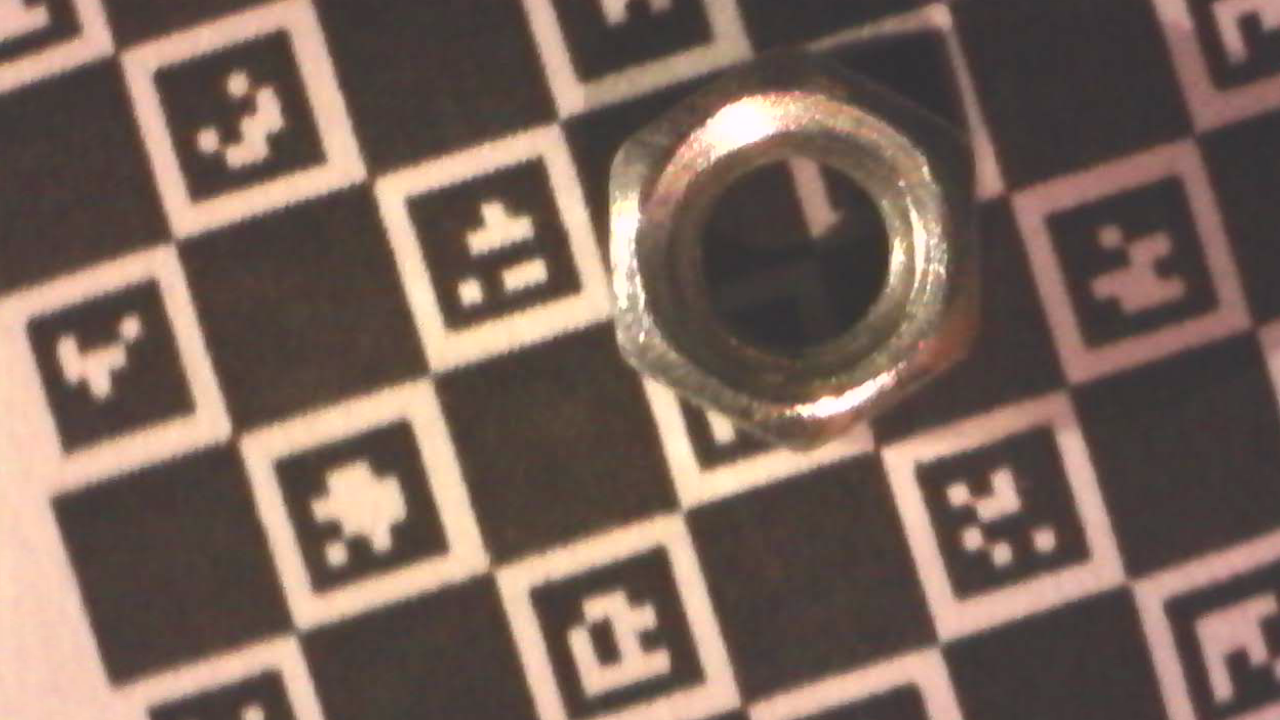Bolt: (608, 44, 976, 457)
